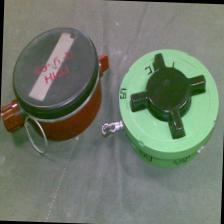PMN2: (109, 34, 224, 180), (0, 20, 110, 147)
